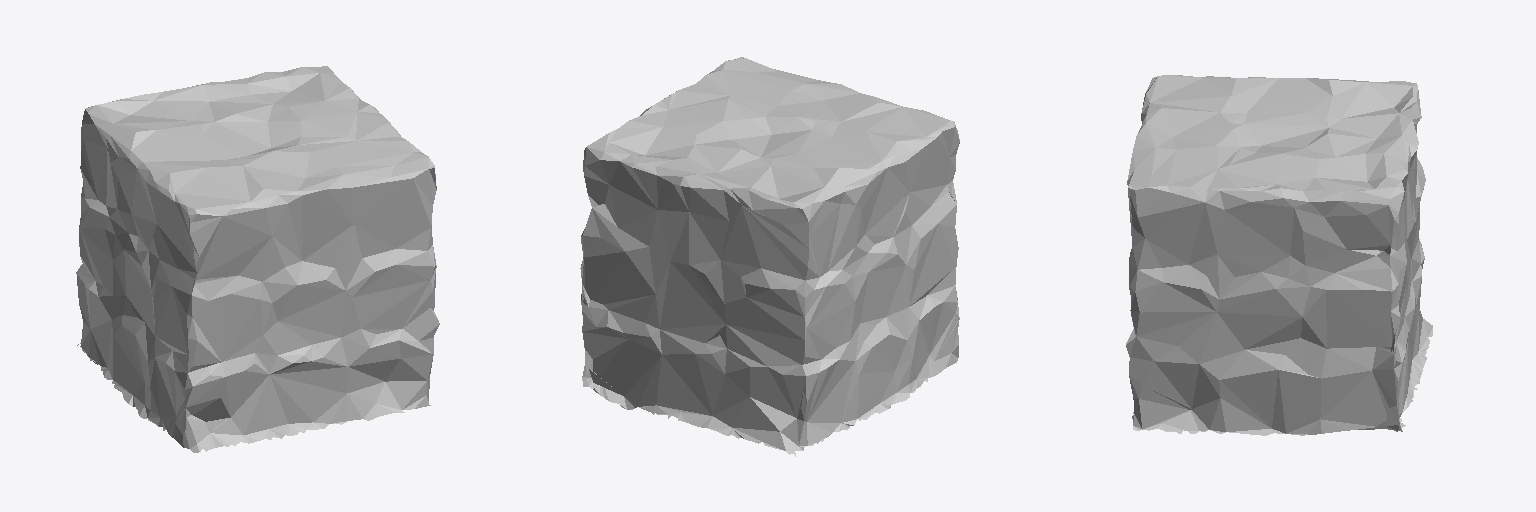
The model's file is RubixCube.obj.
3 views of the same model, side by side, from view 1: azimuth 30°, elevation 25°; view 2: azimuth 150°, elevation 25°; view 3: azimuth 270°, elevation 25° (orthographic).
Parts seen in each view (by area): view 1: Scaniverse_2025_01_15_154933; view 2: Scaniverse_2025_01_15_154933; view 3: Scaniverse_2025_01_15_154933.
Part boxes in pixels (bbox=[...]): Scaniverse_2025_01_15_154933: bbox=[76, 66, 439, 452]; Scaniverse_2025_01_15_154933: bbox=[580, 57, 959, 456]; Scaniverse_2025_01_15_154933: bbox=[1126, 75, 1432, 435].
Size of the model in its own units: 0.065 by 0.0613 by 0.0663.